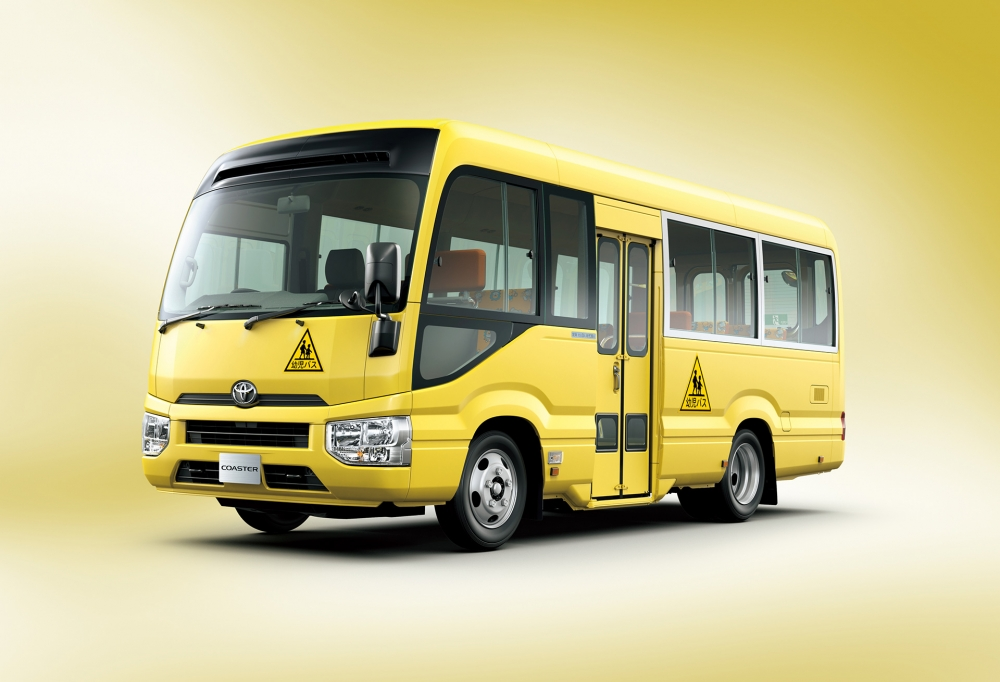bus: (141, 118, 849, 552)
